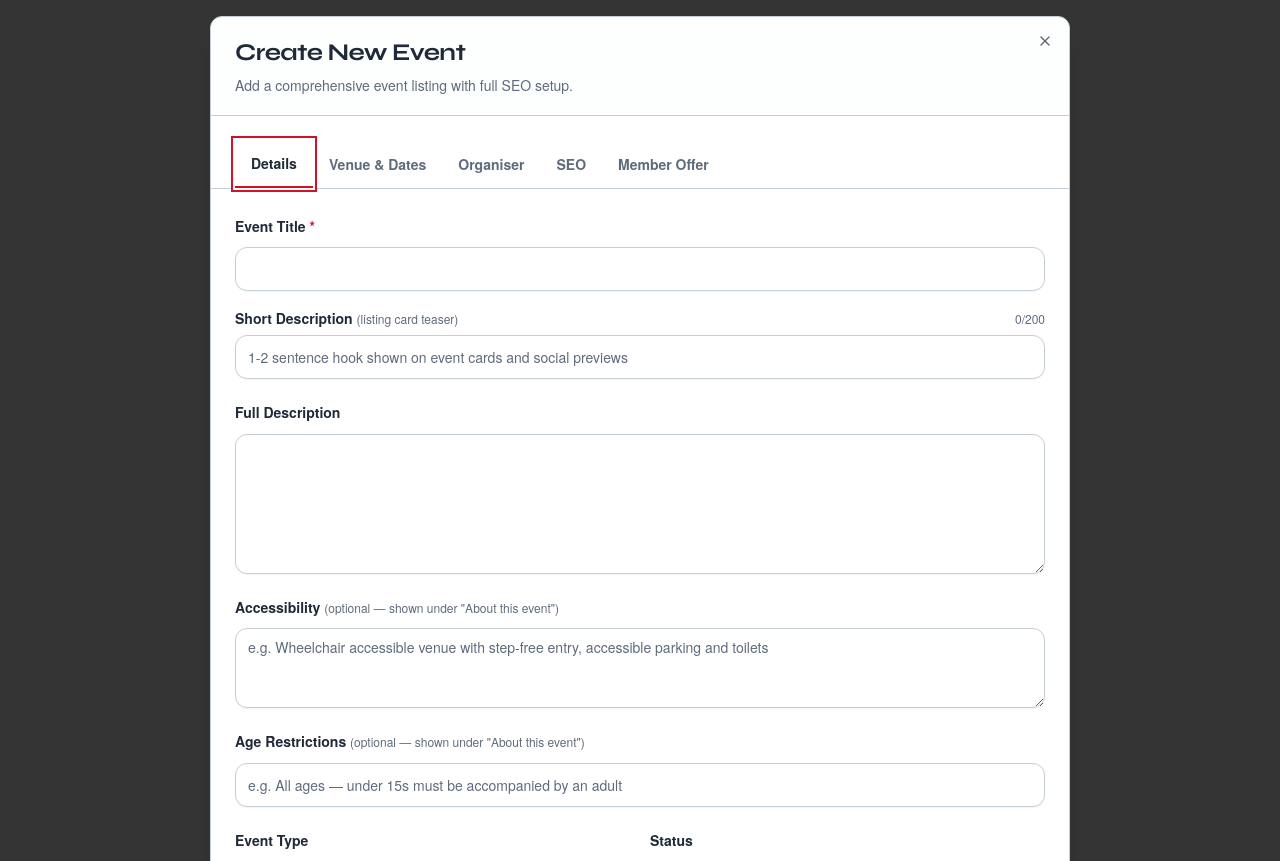
Test: EventFormModal — user/admin field parity › collects the organiser links on the Organiser tab
Press the mouse on the tab "Organiser": (491, 164) [442, 140, 540, 188]
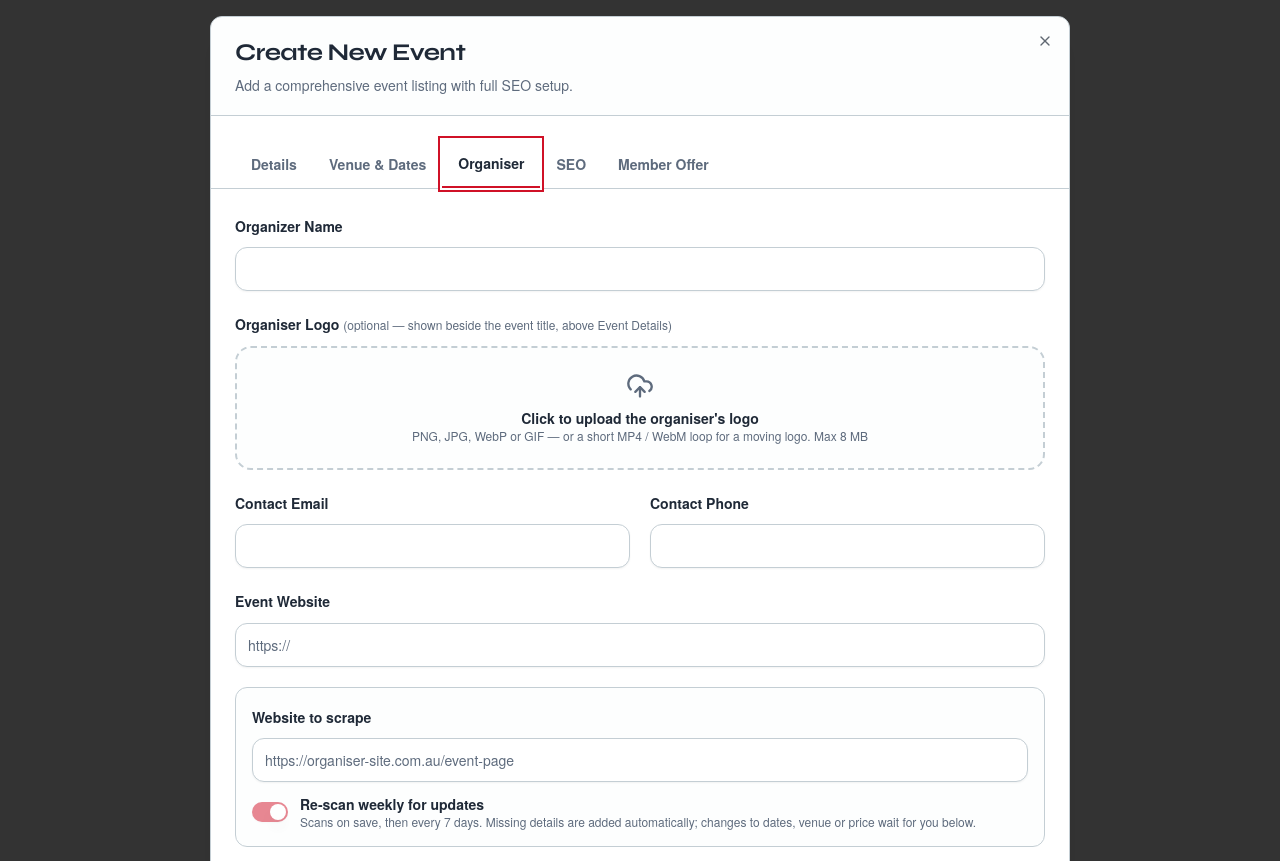
Click the tab "Organiser": click(491, 164) [442, 140, 540, 188]
(page scrolled)
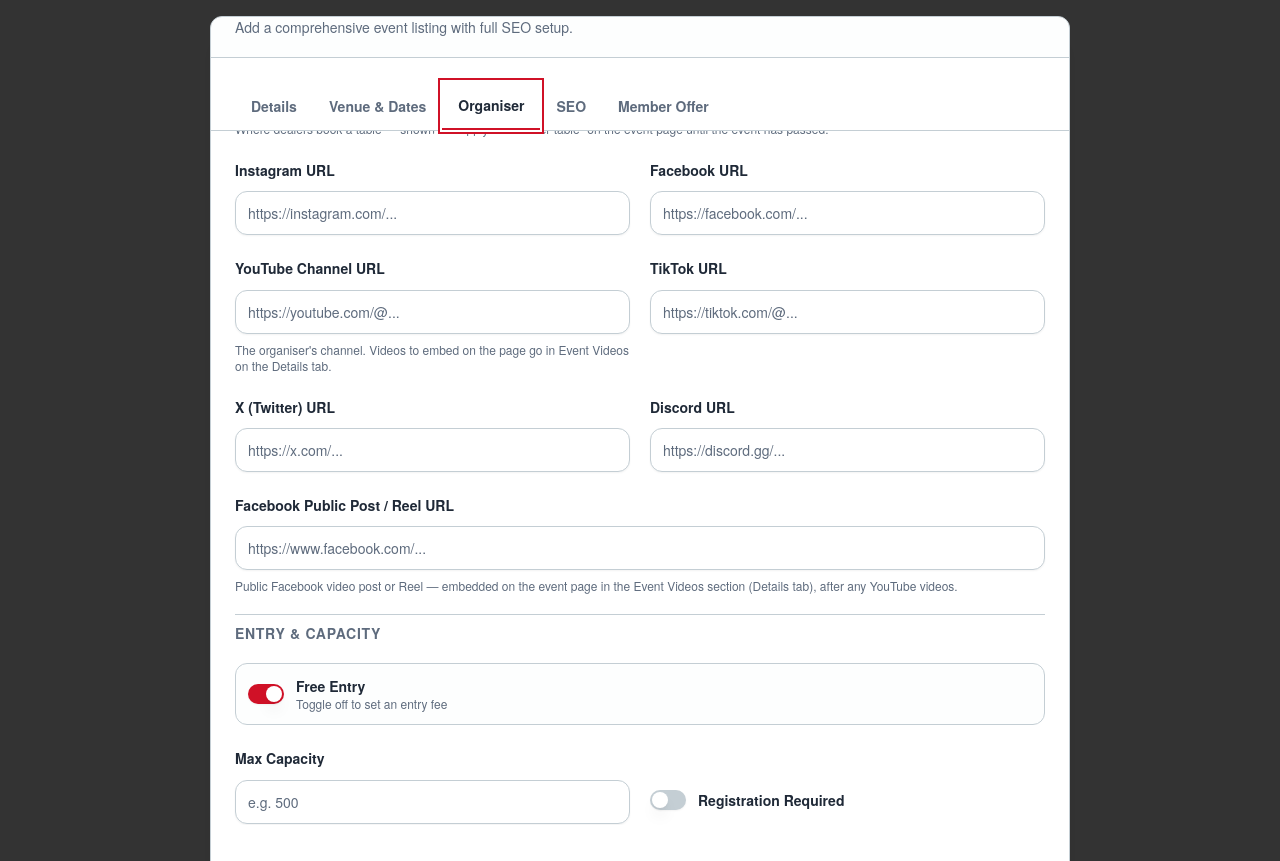
Result: the field labelled "Trader / Vendor Applications URL" is shown at [235, 74, 1045, 113]
Result: the field labelled "Instagram URL" is shown at [235, 191, 630, 235]
Result: the field labelled "Facebook URL" is shown at [650, 191, 1045, 235]
